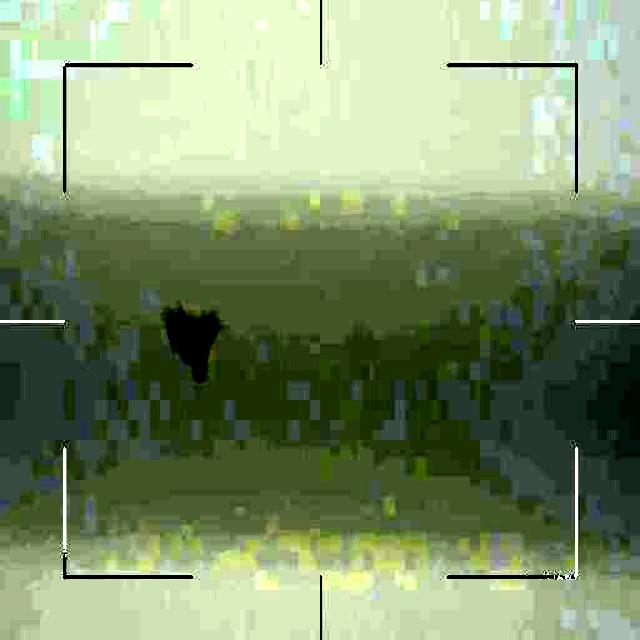bird: (162, 311, 226, 384)
